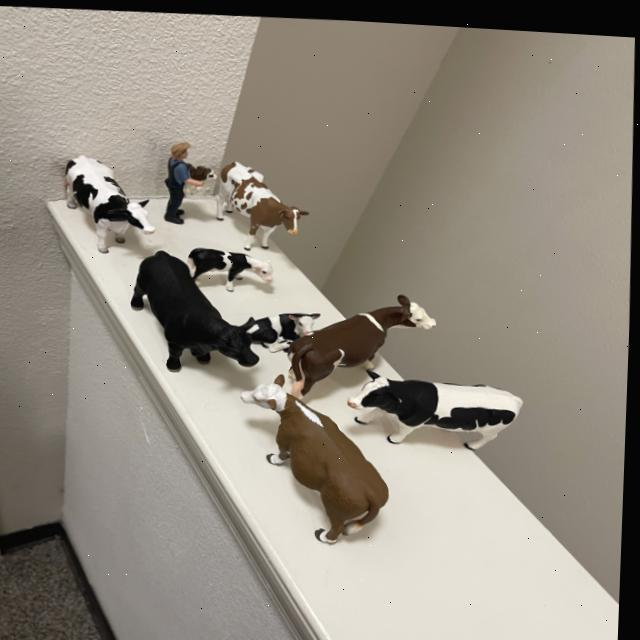cow: (227, 351, 402, 548), (103, 239, 279, 406), (278, 281, 445, 394), (346, 362, 527, 453), (48, 139, 160, 262), (194, 149, 313, 264), (186, 243, 278, 293), (248, 298, 328, 354), (190, 162, 213, 178)
person: (160, 137, 197, 222)
